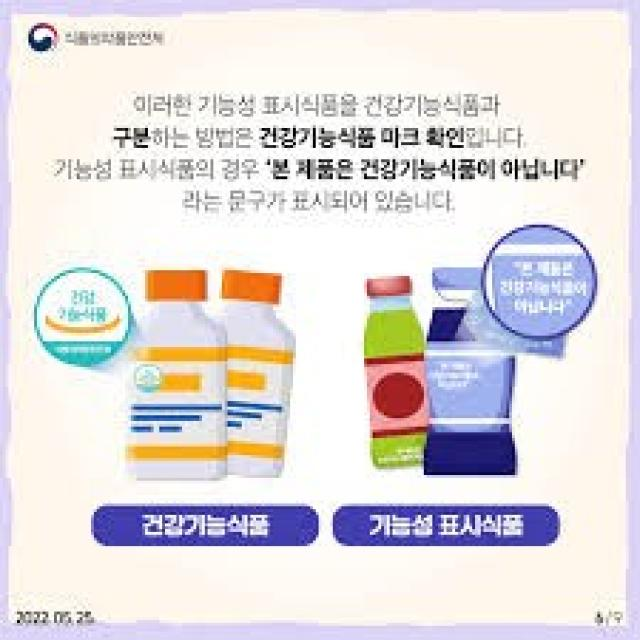HEALTHY: (32, 266, 133, 370)
